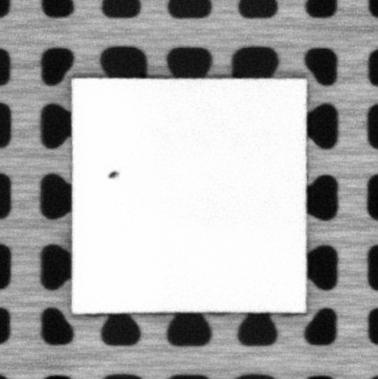DIE_INK: (106, 169, 121, 180)
